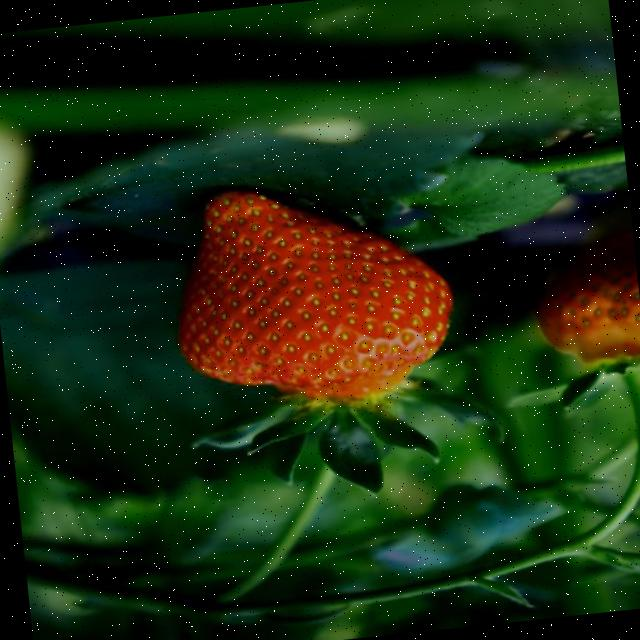strawberry: (178, 191, 450, 401), (536, 230, 640, 364)
